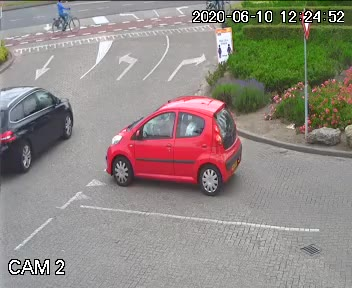car: (100, 91, 249, 209), (0, 73, 74, 164)
